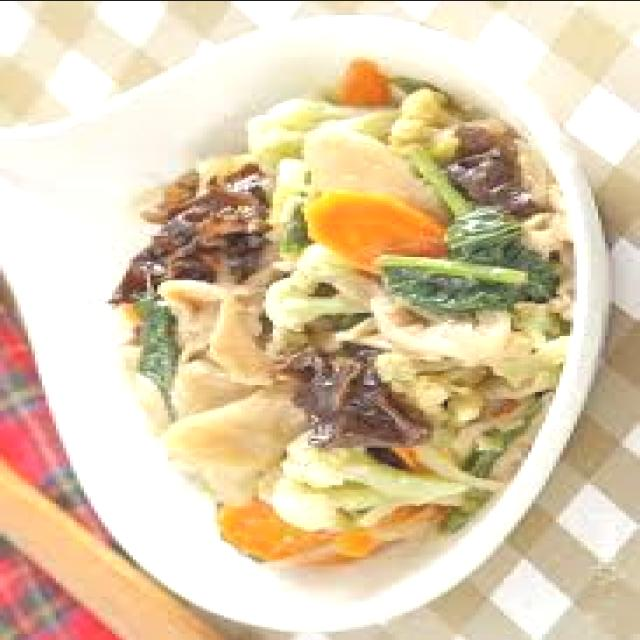capcay: (105, 54, 577, 570)
